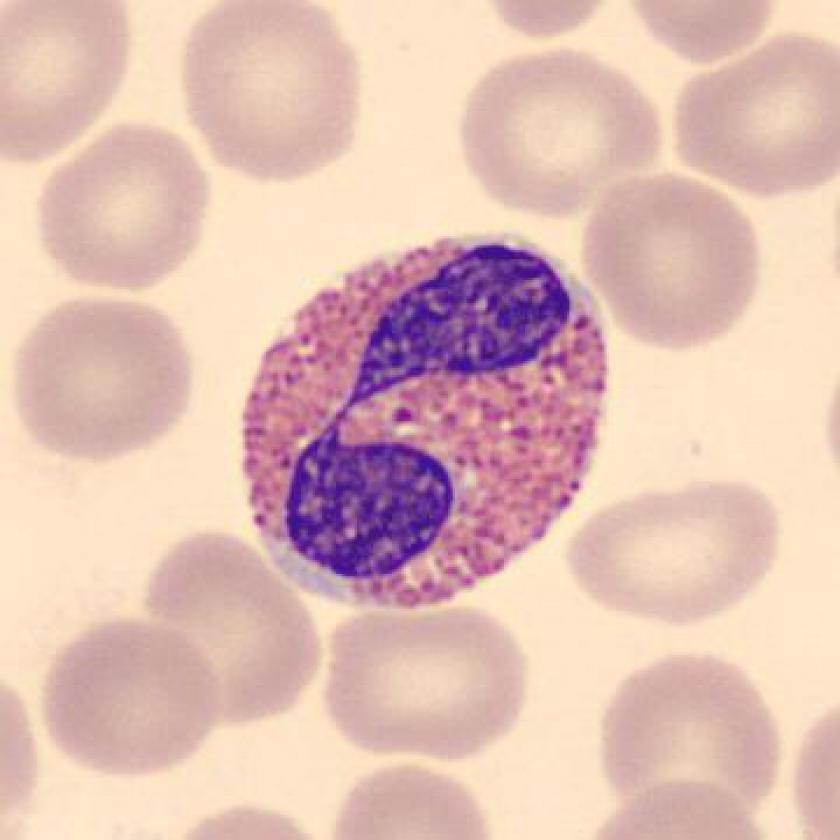eosinophil: (225, 214, 624, 623)
